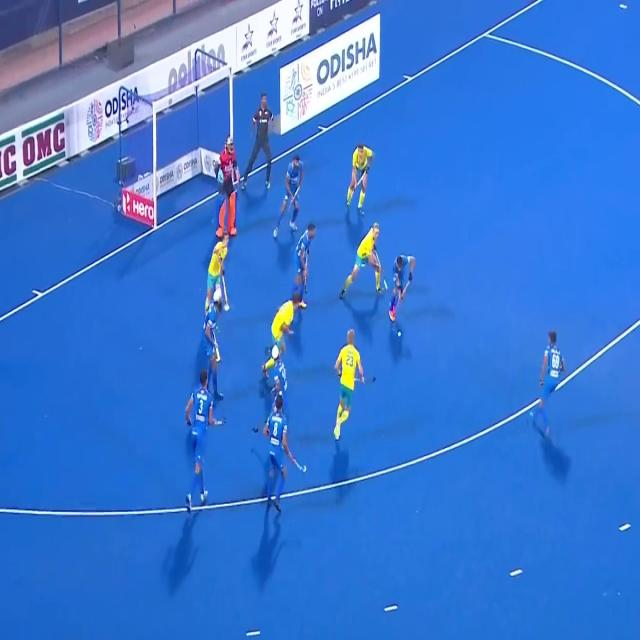ball: (394, 324, 406, 342)
